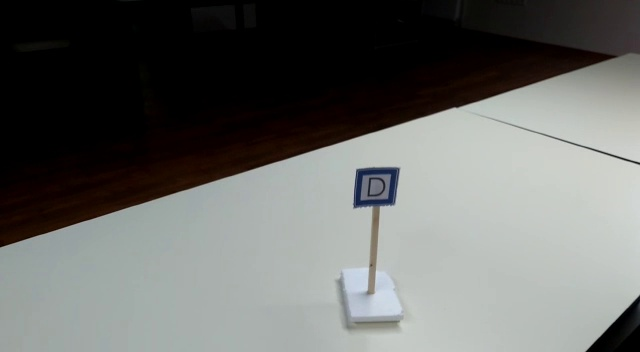durak: (355, 167, 398, 208)
